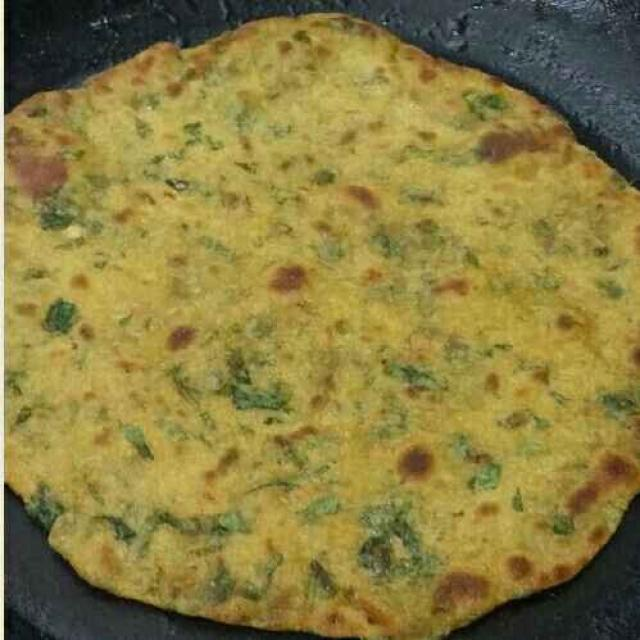paratha: (4, 14, 639, 639)
